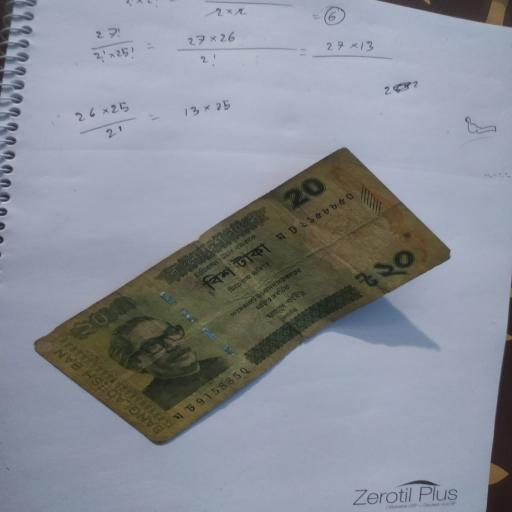20taka: (41, 142, 459, 445)
